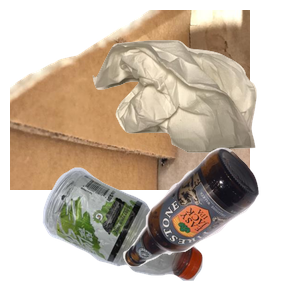cardboard: (10, 10, 250, 190)
glass: (120, 145, 300, 300)
plastic: (40, 165, 235, 300)
trash: (90, 38, 300, 183)
